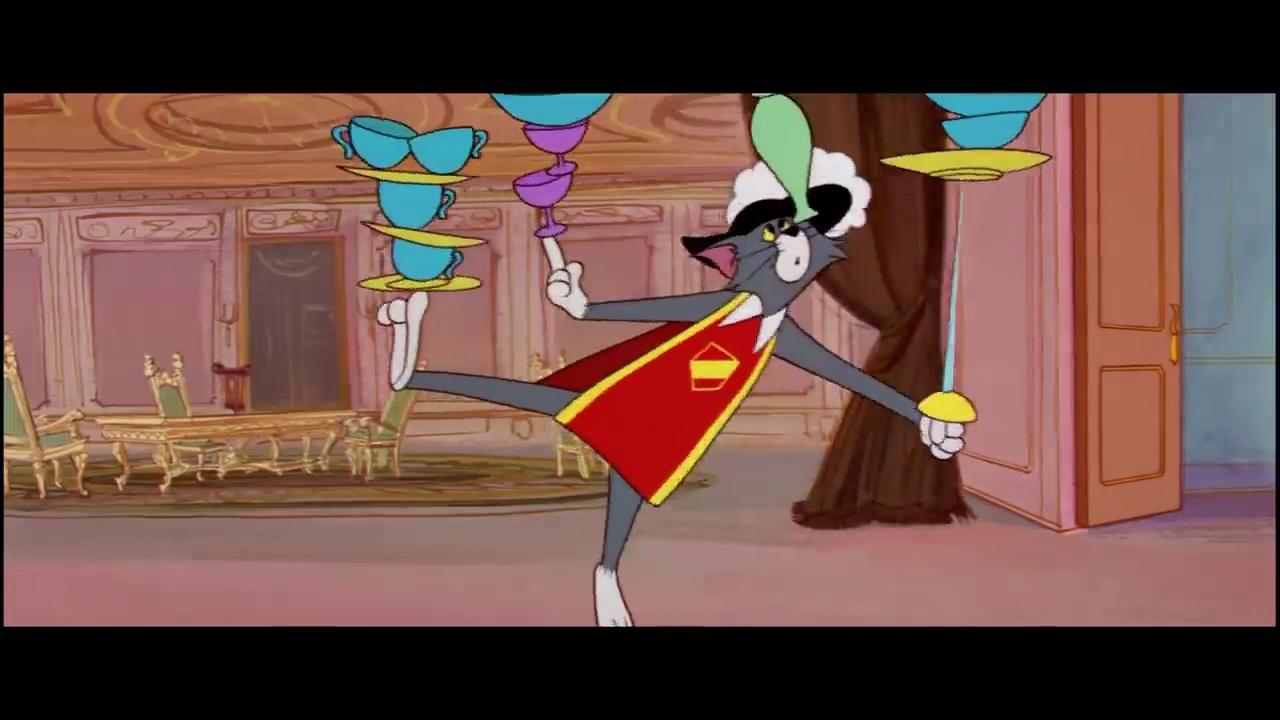Tom: (374, 209, 971, 627)
